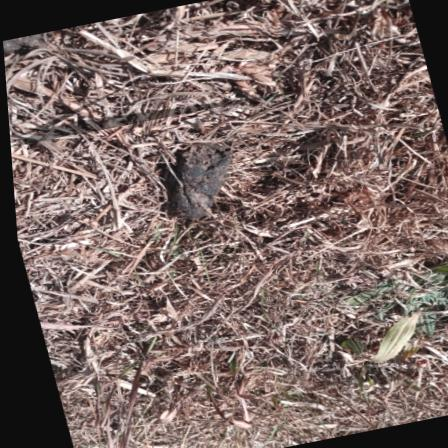dog-poop: (146, 135, 235, 224)
